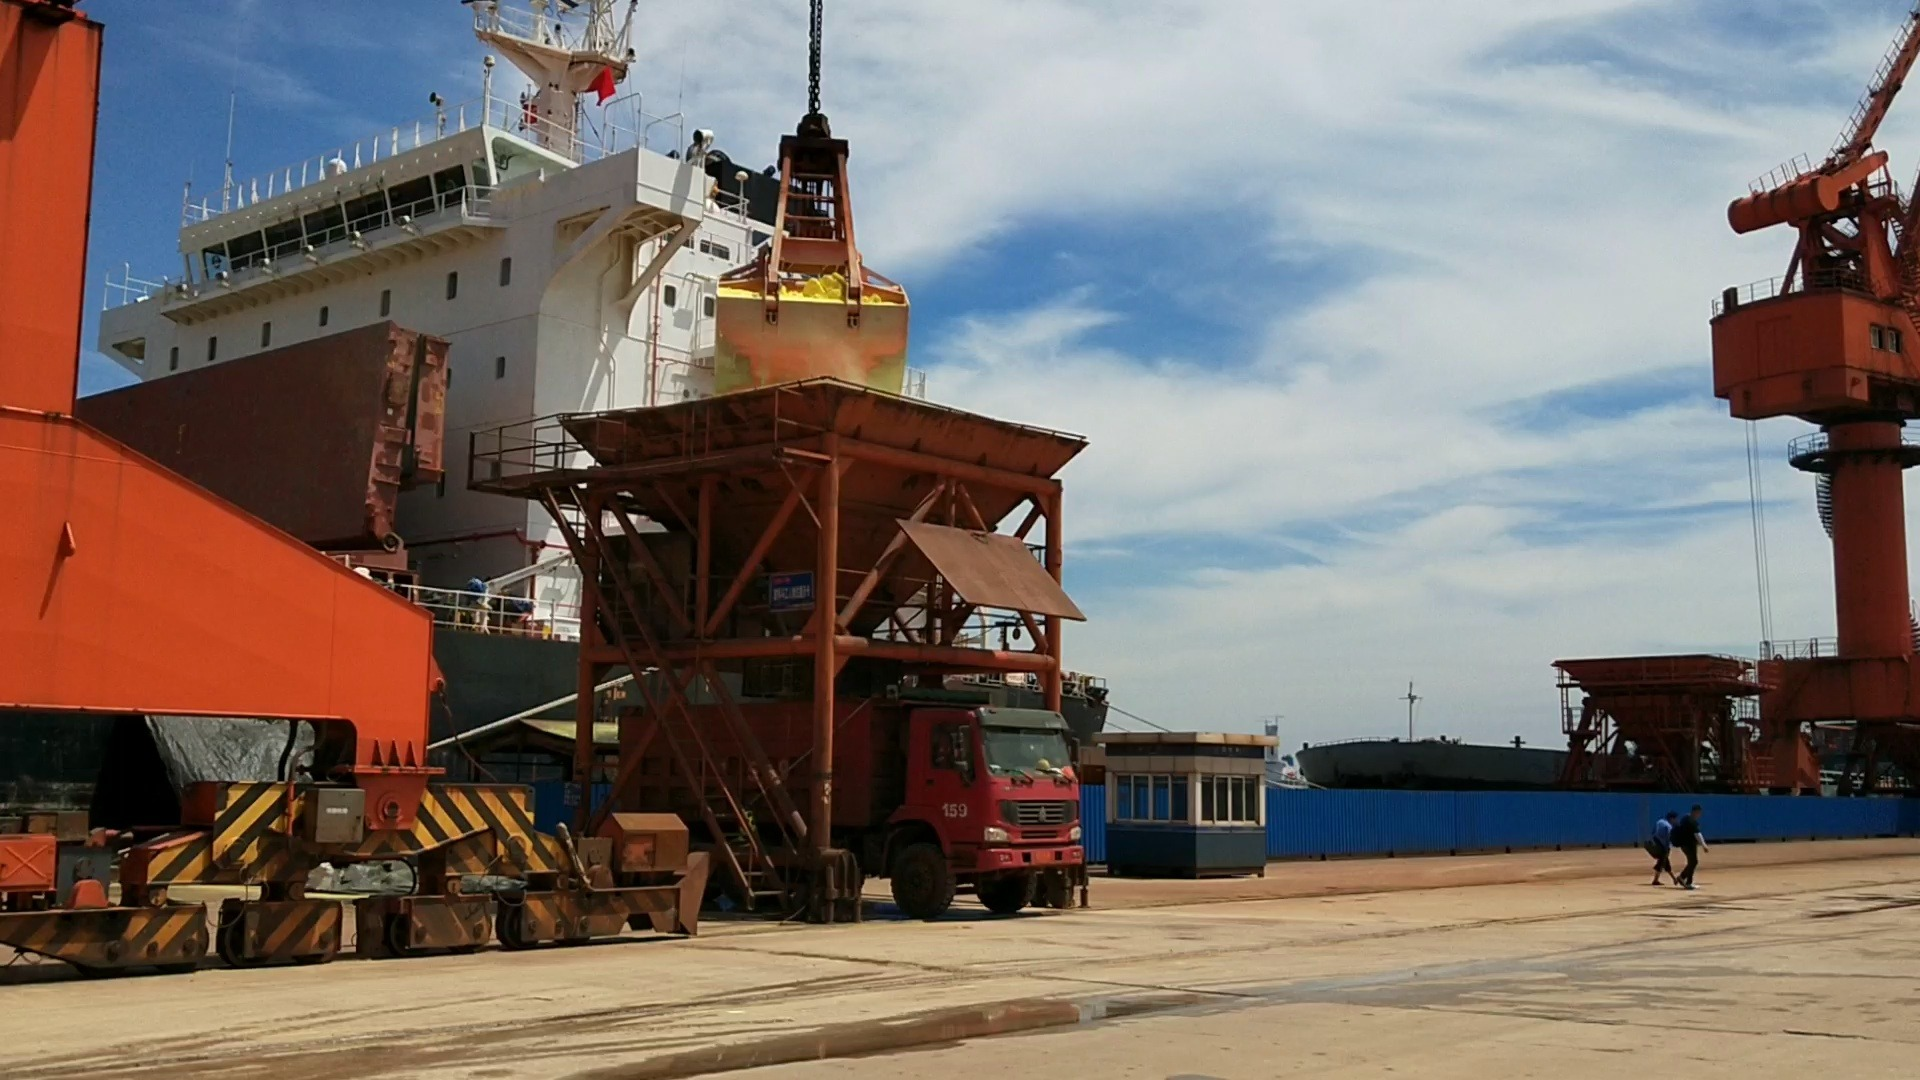grab: (695, 95, 919, 406)
truck: (841, 682, 1098, 913)
